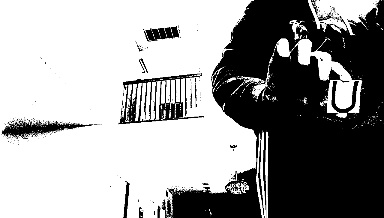U: (328, 79, 359, 112)
